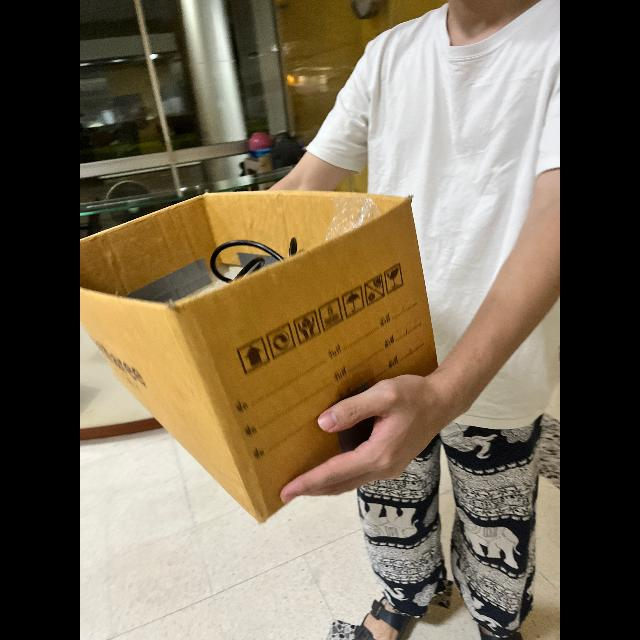cardboard_box: (80, 183, 446, 527)
